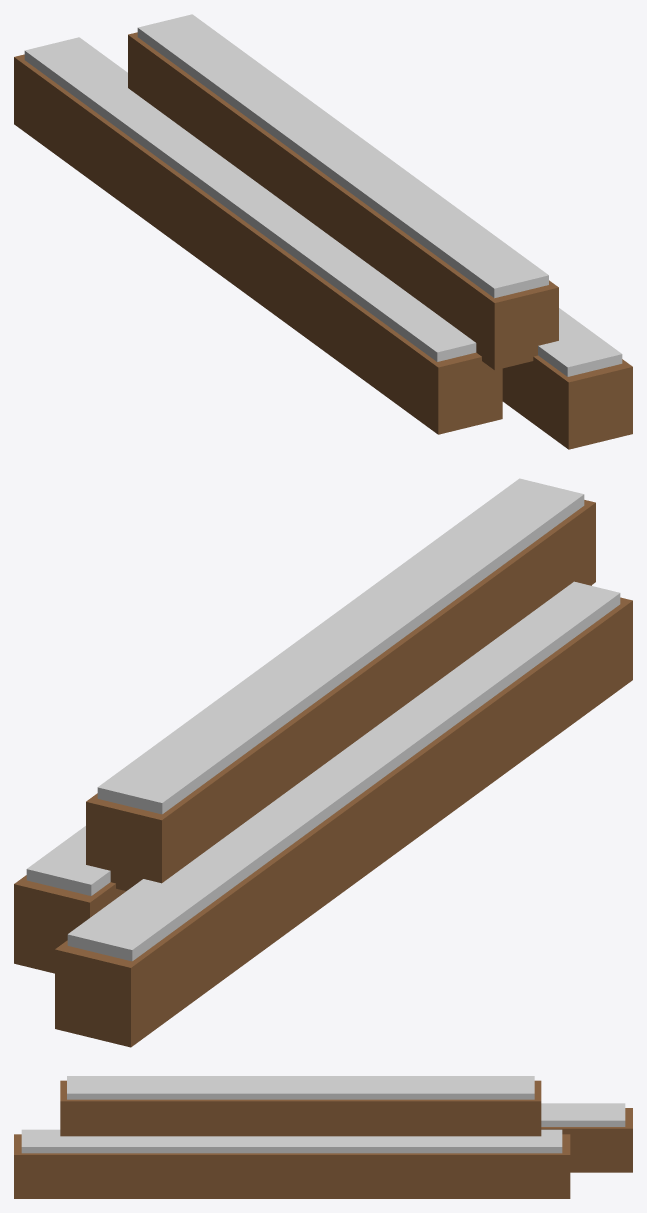
Rendered from wood_bricks_snow_mat.fbx.
3 renders of one model, top to bottom at view 1: azimuth 30°, elevation 25°; view 2: azimuth 150°, elevation 25°; view 3: azimuth 270°, elevation 25°, orthographic. The views are drawn at different scales.
Visible parts, largest first — view 1: wood_bricks_snow_mat; view 2: wood_bricks_snow_mat; view 3: wood_bricks_snow_mat.
Part boxes in pixels (bbox=[...]): wood_bricks_snow_mat: bbox=[14, 14, 632, 449]; wood_bricks_snow_mat: bbox=[14, 478, 632, 1047]; wood_bricks_snow_mat: bbox=[14, 1076, 632, 1198].
Bounding box in the file's own units: 0.3995 × 0.3634 × 2.23.
